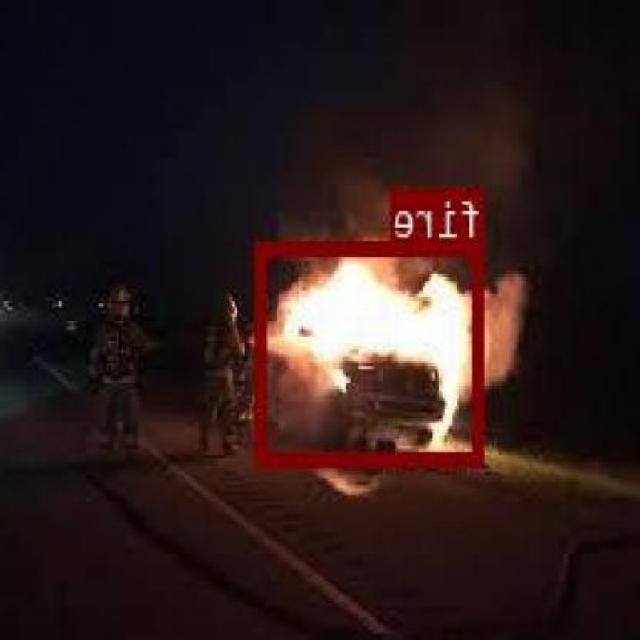Fire: (258, 238, 486, 464)
